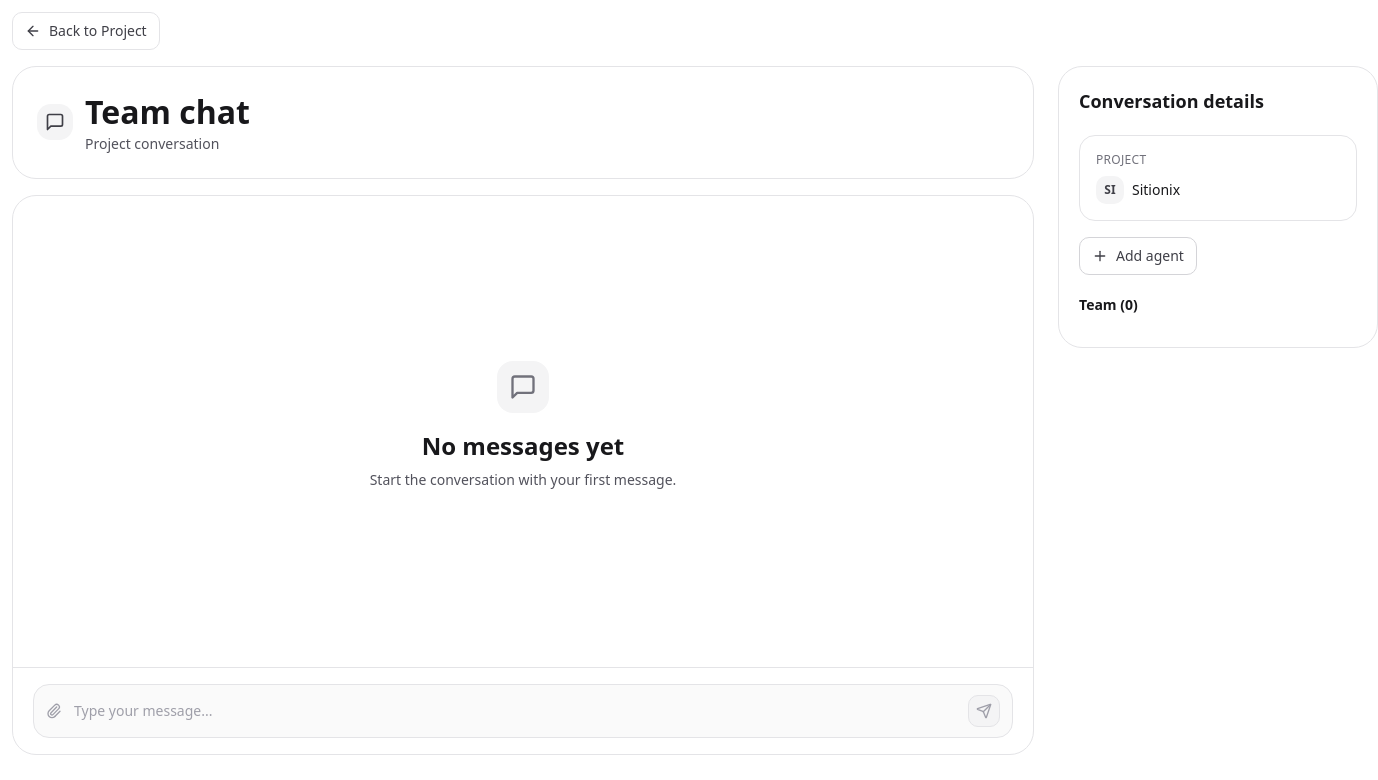
Test: ProjectConversationPage › removes optimistic message and renders submit error when execution request fails
Check: the heading "Team chat" is shown, box [85, 91, 250, 134]
In the field with placeholder "Type your message...": (515, 711) [74, 701, 956, 721], type "Will fail"
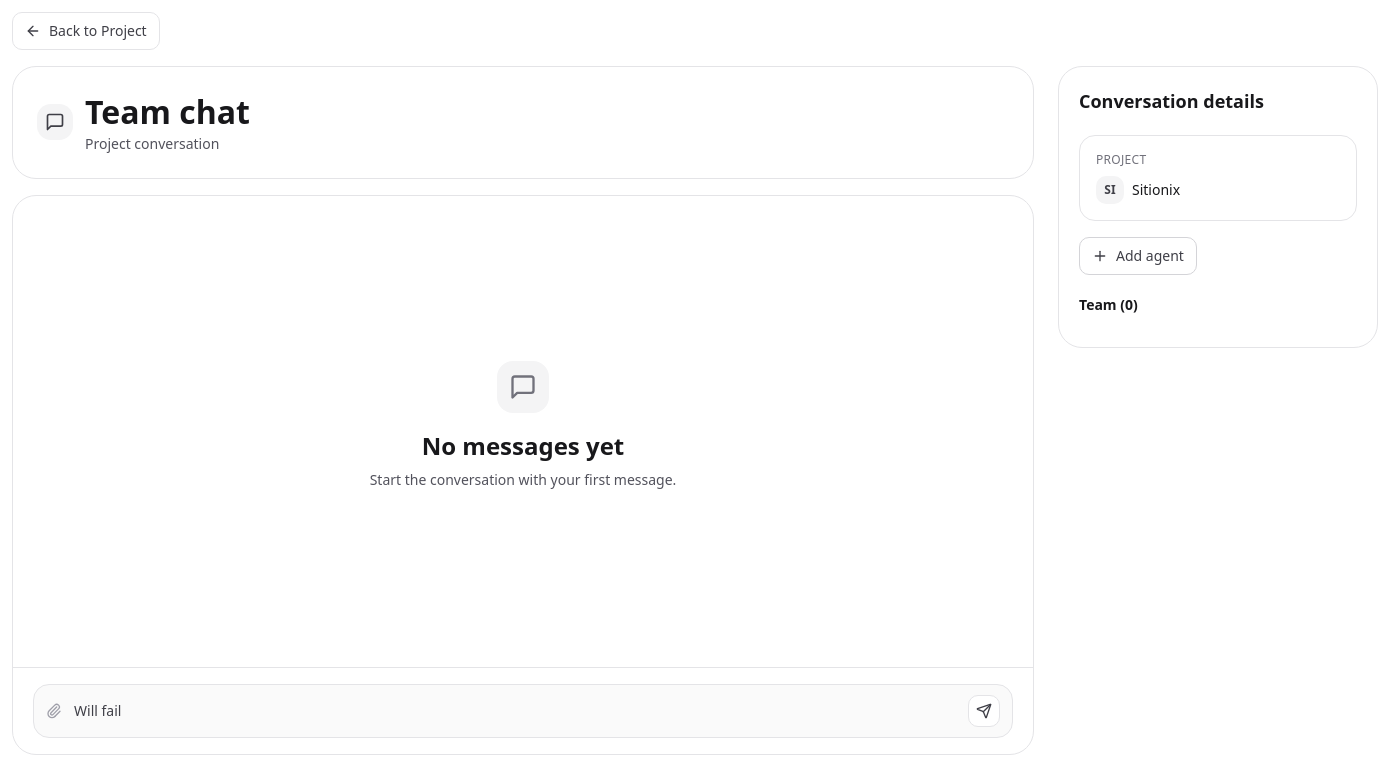
Click the button named "Send message": (984, 711) [968, 695, 1000, 727]
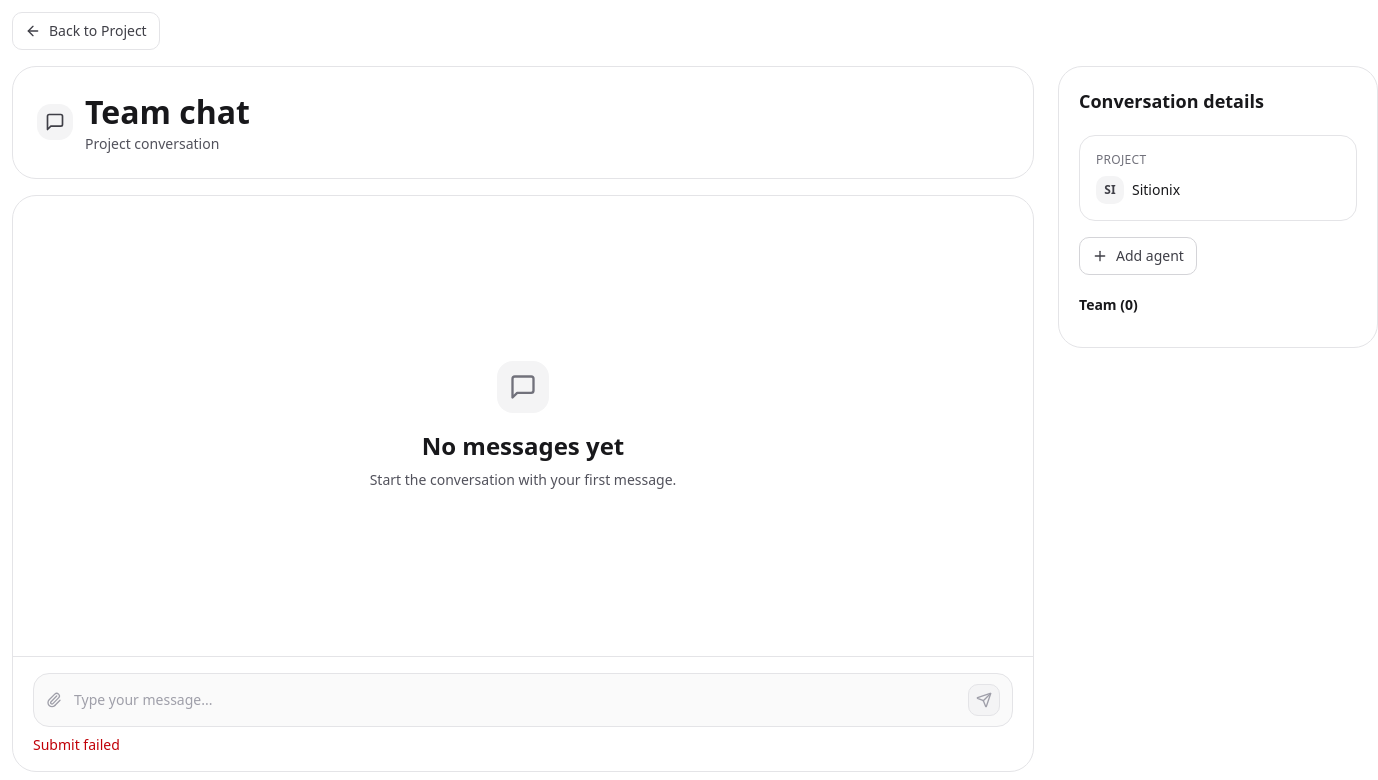
Check: the text "Will fail" is not shown
Check: the text "Submit failed" is shown, box [33, 735, 120, 754]
